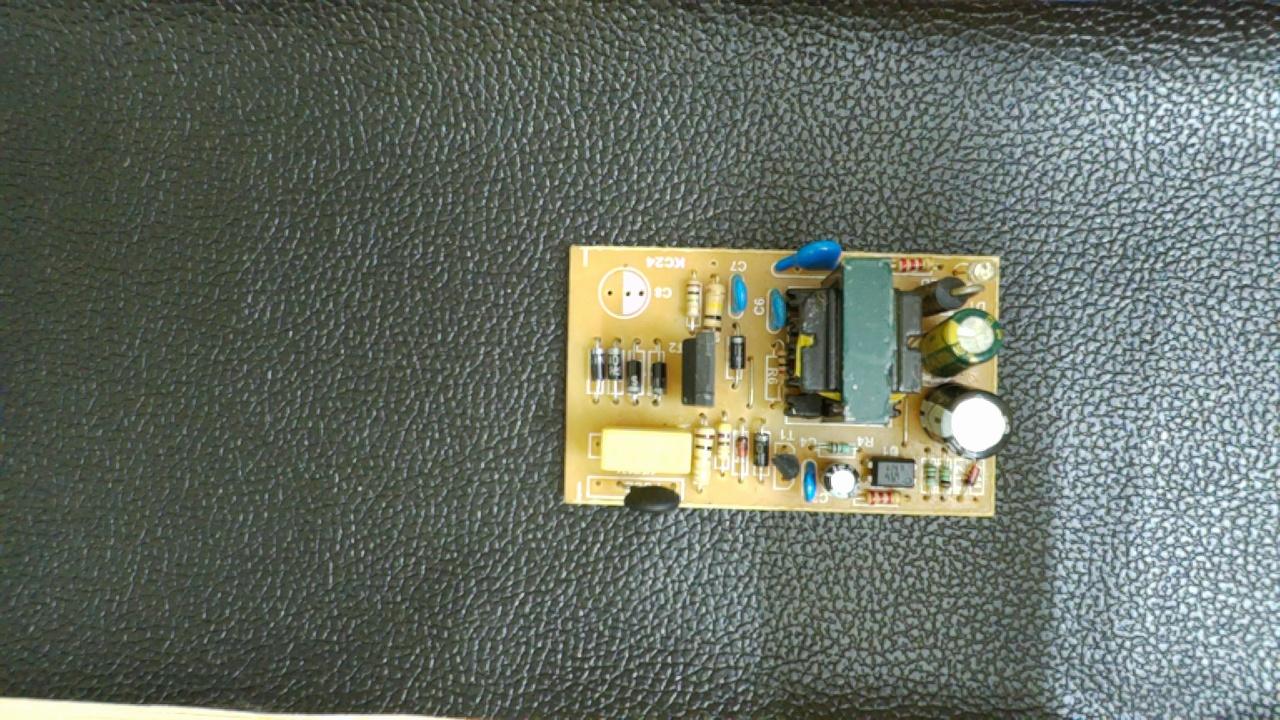fuse: (608, 476, 689, 516)
mov: (770, 240, 849, 278)
optocoupler: (858, 450, 921, 492)
